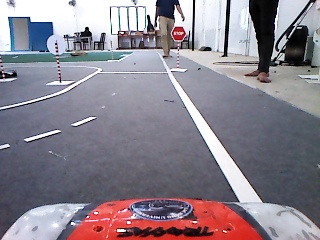stop: (169, 25, 188, 42)
